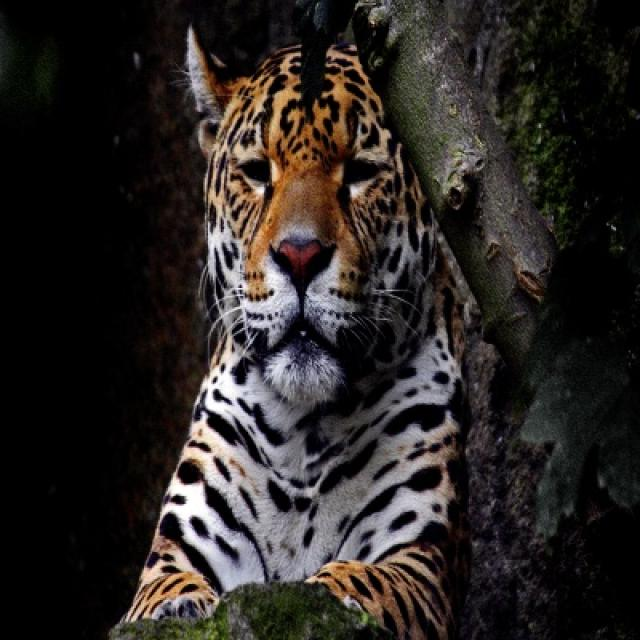Jaguar: (112, 8, 474, 638)
